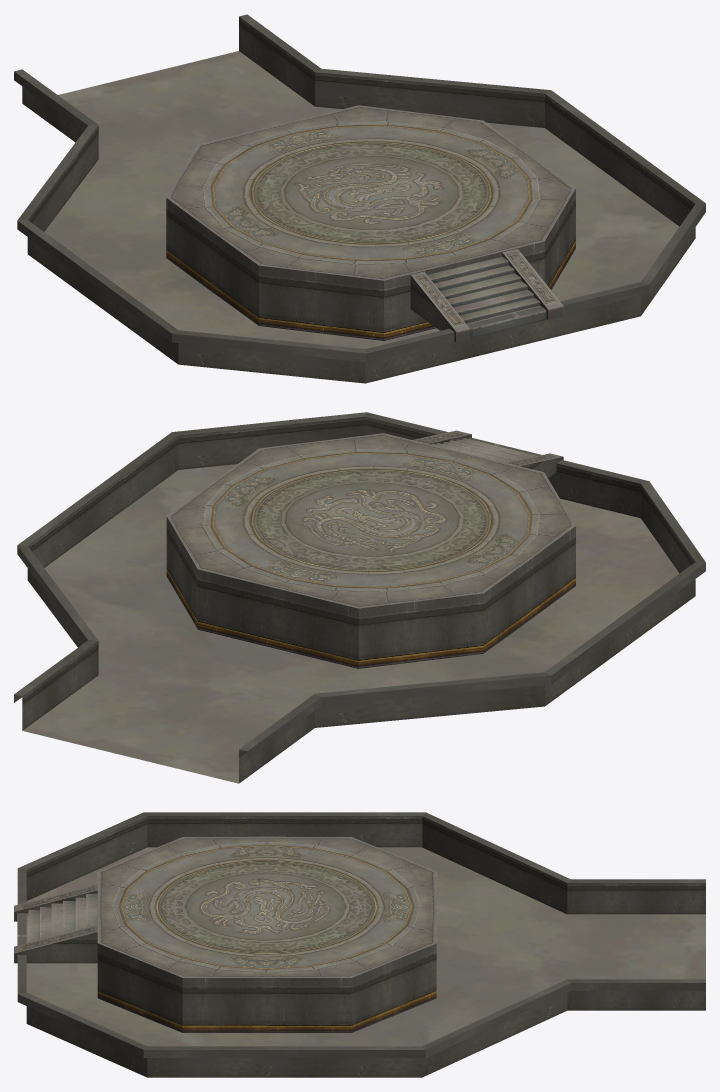
File: s7_chongta_jianzhu_taizi002.FBX
3 views of the same model, one above another, from view 1: azimuth 30°, elevation 25°; view 2: azimuth 150°, elevation 25°; view 3: azimuth 270°, elevation 25° (orthographic). The views are drawn at different scales.
Visible parts, largest first — view 1: s7_jianzhu_taizi003, s7_jianzhu_taizi001, s7_jianzhu_taizi002; view 2: s7_jianzhu_taizi003, s7_jianzhu_taizi001, s7_jianzhu_taizi002; view 3: s7_jianzhu_taizi003, s7_jianzhu_taizi001, s7_jianzhu_taizi002.
Boxes of the visible parts, <box> form: s7_jianzhu_taizi003: <box>14,14,705,383</box>; s7_jianzhu_taizi001: <box>166,105,575,340</box>; s7_jianzhu_taizi002: <box>410,248,563,342</box>; s7_jianzhu_taizi003: <box>14,412,705,783</box>; s7_jianzhu_taizi001: <box>166,433,575,668</box>; s7_jianzhu_taizi002: <box>412,430,563,478</box>; s7_jianzhu_taizi003: <box>17,812,705,1077</box>; s7_jianzhu_taizi001: <box>97,836,436,1032</box>; s7_jianzhu_taizi002: <box>14,884,97,963</box>.
Bounding box in the file's own units: 44.78 × 6.12 × 55.09.
